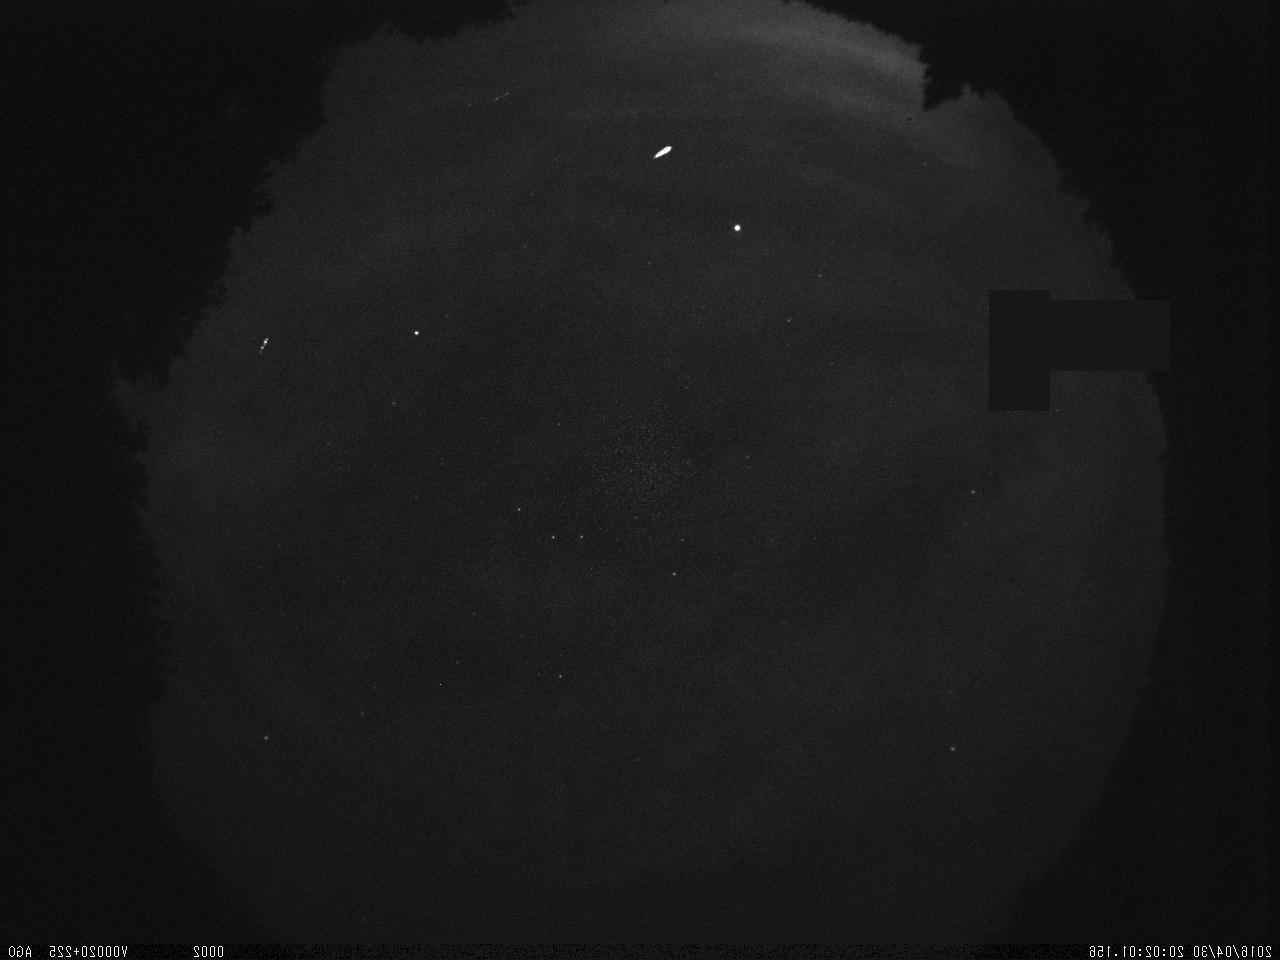meteor: (631, 116, 693, 178)
